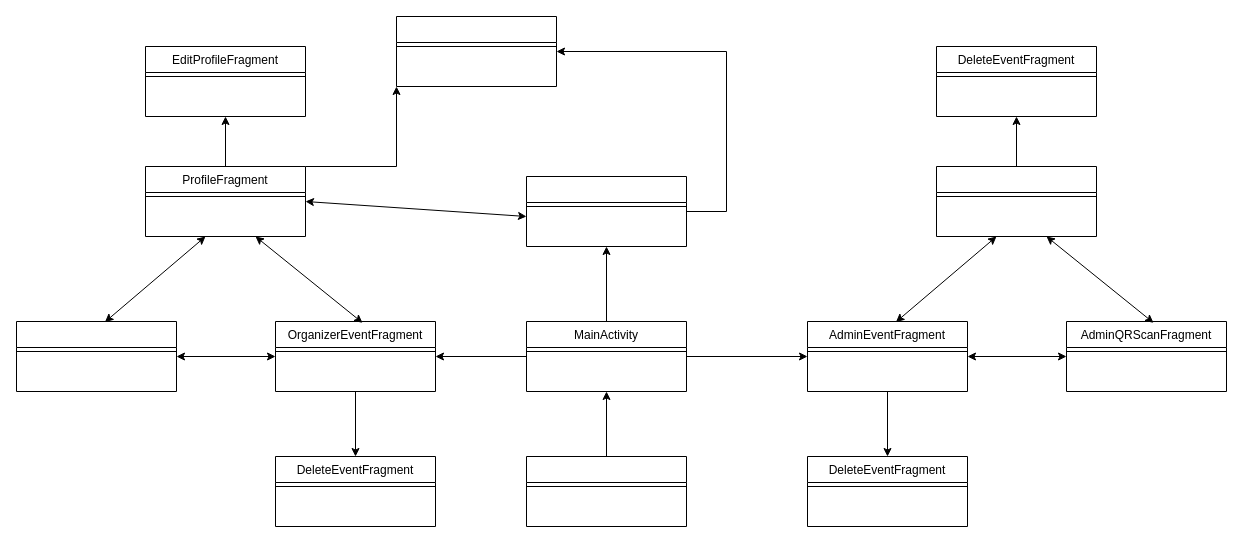
Image size: 1243x543. Some labels were removed from this diagram. The shapes that lost their labels are listed below. From the top down, each one's centre as x and y in pixels, then its label:
point 476,51: AttendeeQRScanFragment
point 606,211: AttendeeEventFragment
point 1016,201: AdminAllProfileFragment
point 96,356: OrganizerQRScanFragment
point 606,491: UserSelection
